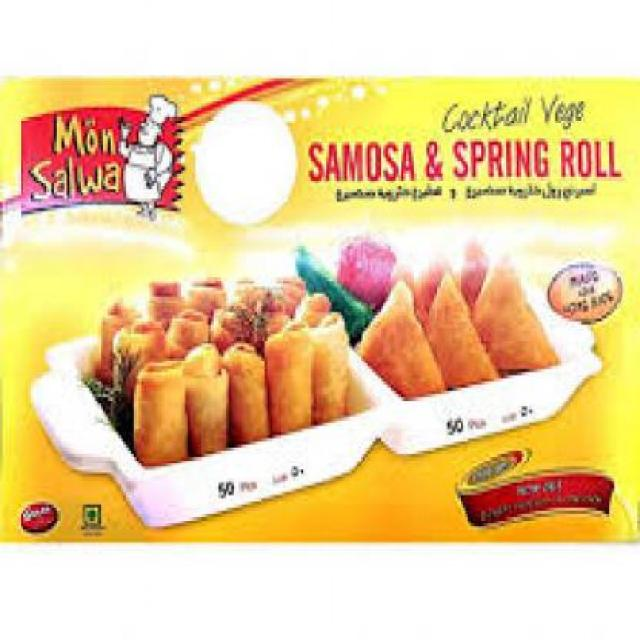samosa: (357, 239, 558, 398)
spring rolls: (78, 264, 347, 444)
